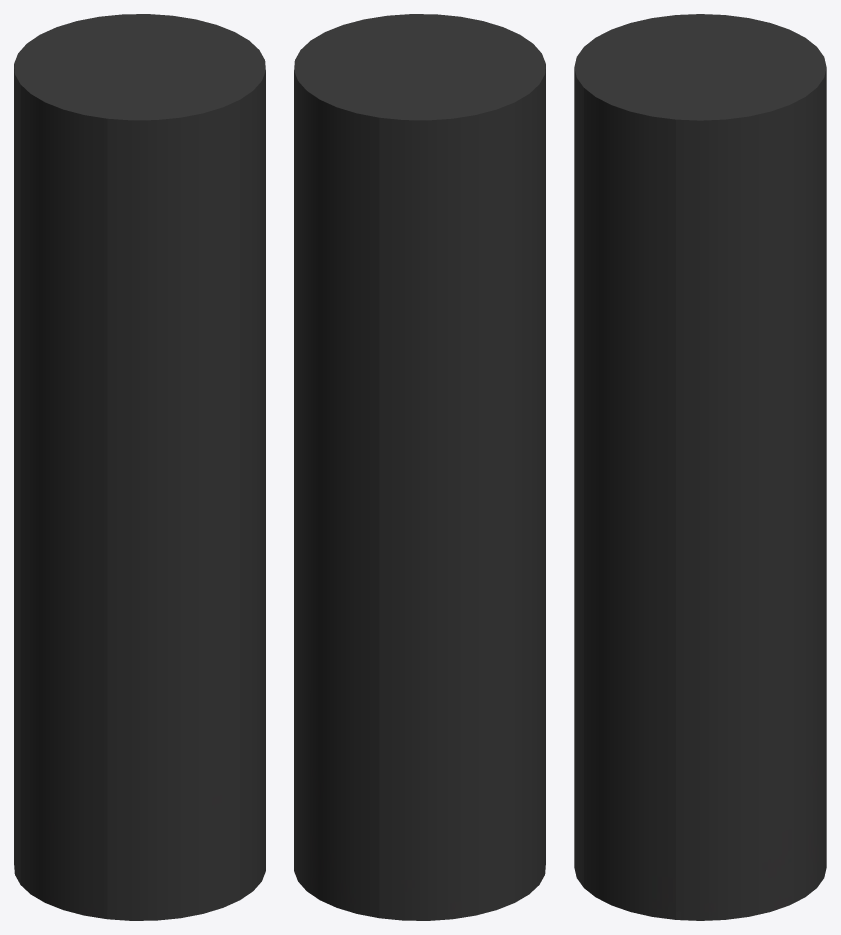
Rendered from frame__axle_stub_1.glb.
3 views of the same model, side by side, from view 1: azimuth 30°, elevation 25°; view 2: azimuth 150°, elevation 25°; view 3: azimuth 270°, elevation 25° (orthographic).
Parts seen in each view (by area): view 1: world; view 2: world; view 3: world.
Boxes of the visible parts, x1,y1,x2,y2 form: world: [14, 14, 265, 920]; world: [294, 14, 545, 920]; world: [574, 14, 826, 920].
Size of the model in its own units: 0.02 by 0.07 by 0.02.
1 material, 1 textured.
